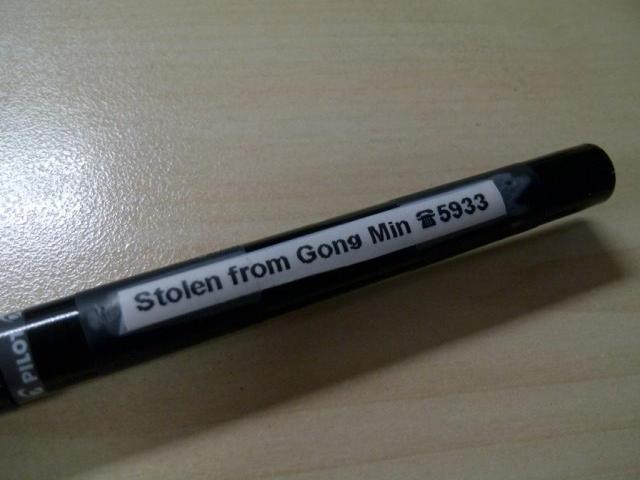PEN: (0, 137, 624, 420)
